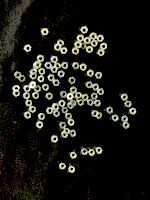nut: (81, 26, 89, 34), (42, 28, 50, 36), (24, 45, 32, 53), (97, 35, 105, 43), (98, 49, 106, 57), (51, 56, 59, 64), (37, 55, 45, 63), (18, 75, 26, 83), (42, 84, 50, 92), (34, 85, 42, 93), (46, 93, 54, 101), (70, 100, 78, 108), (38, 113, 46, 121), (68, 119, 76, 127), (51, 136, 59, 144), (96, 147, 104, 155), (90, 33, 98, 40), (84, 37, 92, 44), (77, 35, 85, 42), (91, 40, 99, 47), (87, 46, 94, 54), (61, 47, 69, 54), (96, 72, 103, 80), (73, 62, 80, 70), (62, 62, 69, 70), (35, 61, 42, 69), (45, 62, 53, 69), (54, 63, 62, 70), (14, 72, 22, 79), (48, 75, 56, 82), (69, 77, 76, 85), (86, 82, 94, 89), (24, 86, 32, 93), (13, 85, 21, 92), (23, 93, 31, 100), (33, 92, 40, 100), (30, 106, 37, 114), (24, 112, 32, 119), (60, 91, 68, 98), (91, 93, 99, 100), (125, 101, 133, 108), (130, 108, 138, 115), (107, 107, 114, 115), (82, 94, 90, 101), (76, 92, 83, 100), (78, 99, 85, 107), (53, 104, 60, 112), (64, 128, 71, 136), (70, 130, 77, 138), (89, 149, 96, 157), (82, 148, 89, 156), (71, 152, 78, 160), (69, 166, 76, 174), (59, 163, 67, 170), (101, 43, 108, 50), (80, 43, 87, 50), (73, 48, 80, 55), (58, 40, 65, 47), (55, 44, 62, 51), (88, 70, 95, 77), (33, 63, 40, 70), (51, 66, 58, 73), (39, 68, 46, 75), (38, 76, 45, 83), (58, 71, 65, 78), (53, 80, 60, 87), (93, 84, 100, 91), (98, 89, 105, 96), (30, 82, 37, 89), (26, 100, 33, 107), (71, 87, 78, 94), (122, 94, 129, 101), (113, 115, 120, 122), (122, 116, 129, 123), (123, 122, 130, 129), (95, 100, 102, 107), (88, 99, 95, 106), (96, 112, 103, 119), (92, 111, 99, 118), (67, 93, 74, 100), (68, 103, 75, 110), (59, 101, 66, 108), (62, 107, 69, 114), (47, 108, 54, 115), (37, 122, 44, 129), (66, 113, 73, 120), (60, 122, 67, 129), (62, 132, 69, 139), (81, 64, 87, 72), (30, 69, 38, 75), (30, 74, 38, 80), (13, 91, 21, 97), (75, 42, 82, 48), (72, 97, 78, 104), (54, 111, 60, 118), (52, 104, 59, 109)
